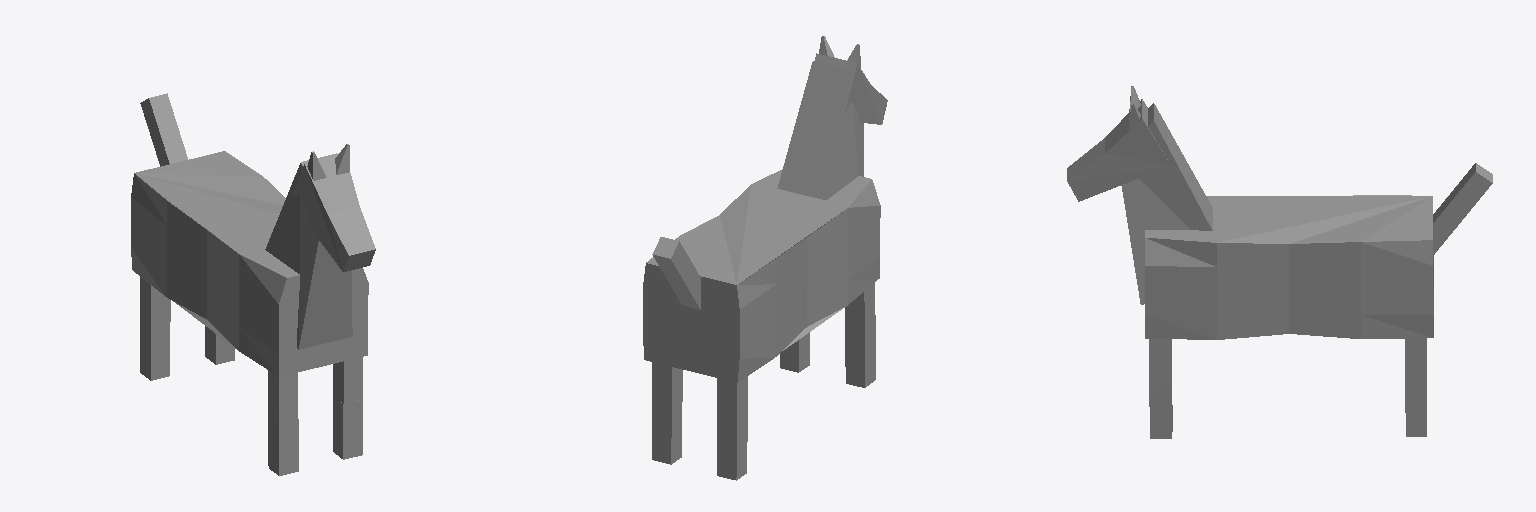
The model's file is horse.obj.
3 views of the same model, side by side, from view 1: azimuth 30°, elevation 25°; view 2: azimuth 150°, elevation 25°; view 3: azimuth 270°, elevation 25° (orthographic).
Visible parts, largest first — view 1: Cube; view 2: Cube; view 3: Cube.
Boxes of the visible parts, x1=… form: Cube: x1=131, y1=93, x2=375, y2=475; Cube: x1=643, y1=36, x2=887, y2=480; Cube: x1=1067, y1=86, x2=1492, y2=438.
Size of the model in its own units: 2.08 by 6.66 by 7.93.